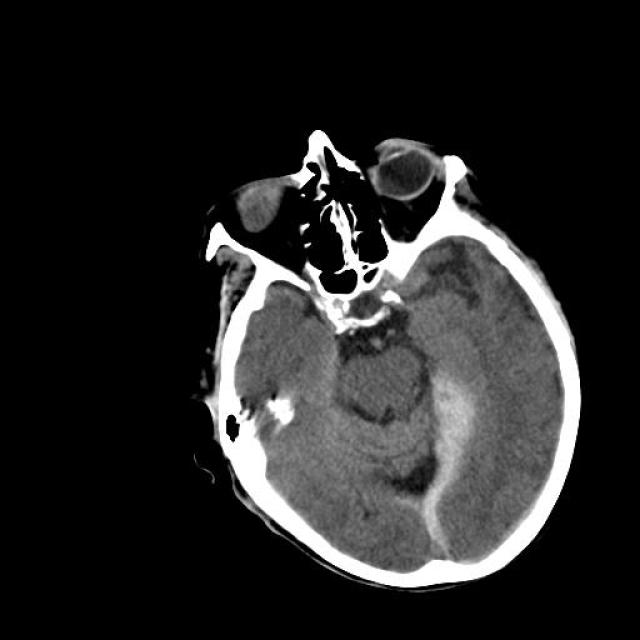Intraparenchymal: (425, 357, 481, 455)
Subdural: (398, 462, 458, 586)
